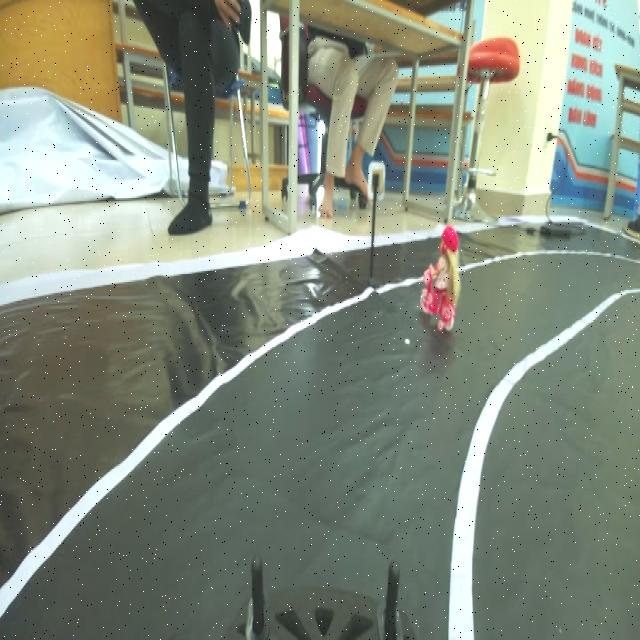pedestrian: (424, 217, 460, 342)
